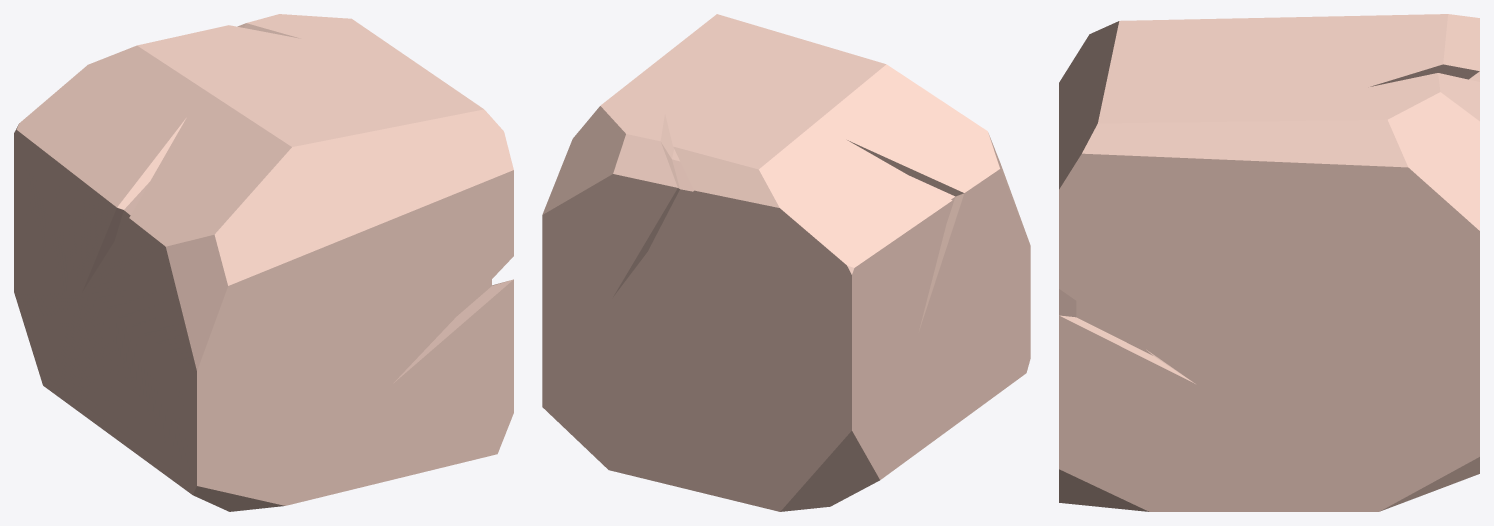
Rendered from Stone 18.fbx.
3 views of the same model, side by side, from view 1: azimuth 30°, elevation 25°; view 2: azimuth 150°, elevation 25°; view 3: azimuth 270°, elevation 25° (orthographic). The views are drawn at different scales.
Visible parts, largest first — view 1: Stone 18; view 2: Stone 18; view 3: Stone 18.
Part boxes in pixels (box(x1,y1,x2,y2)): Stone 18: box(14, 14, 513, 511); Stone 18: box(542, 14, 1030, 511); Stone 18: box(1059, 14, 1479, 511).
Size of the model in its own units: 200 by 200 by 200.
